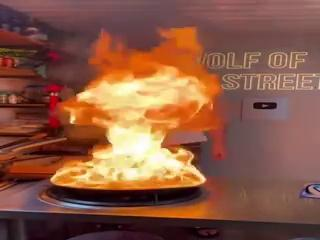Fire: (51, 34, 208, 186)
